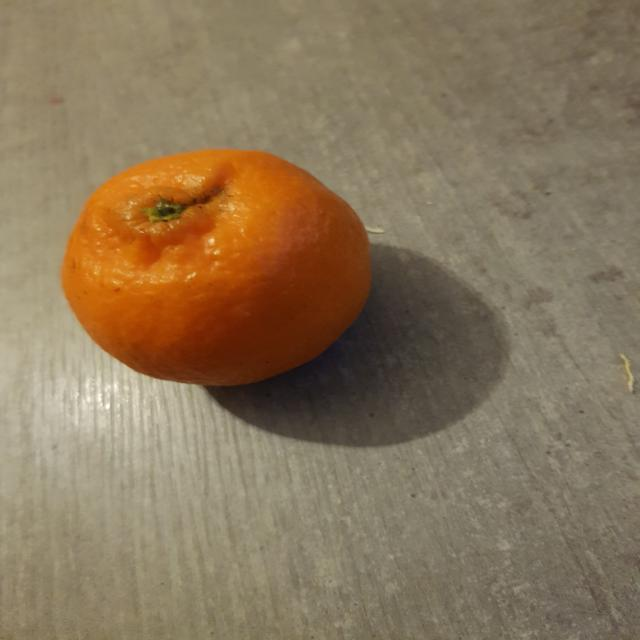Orange: (59, 149, 373, 389)
